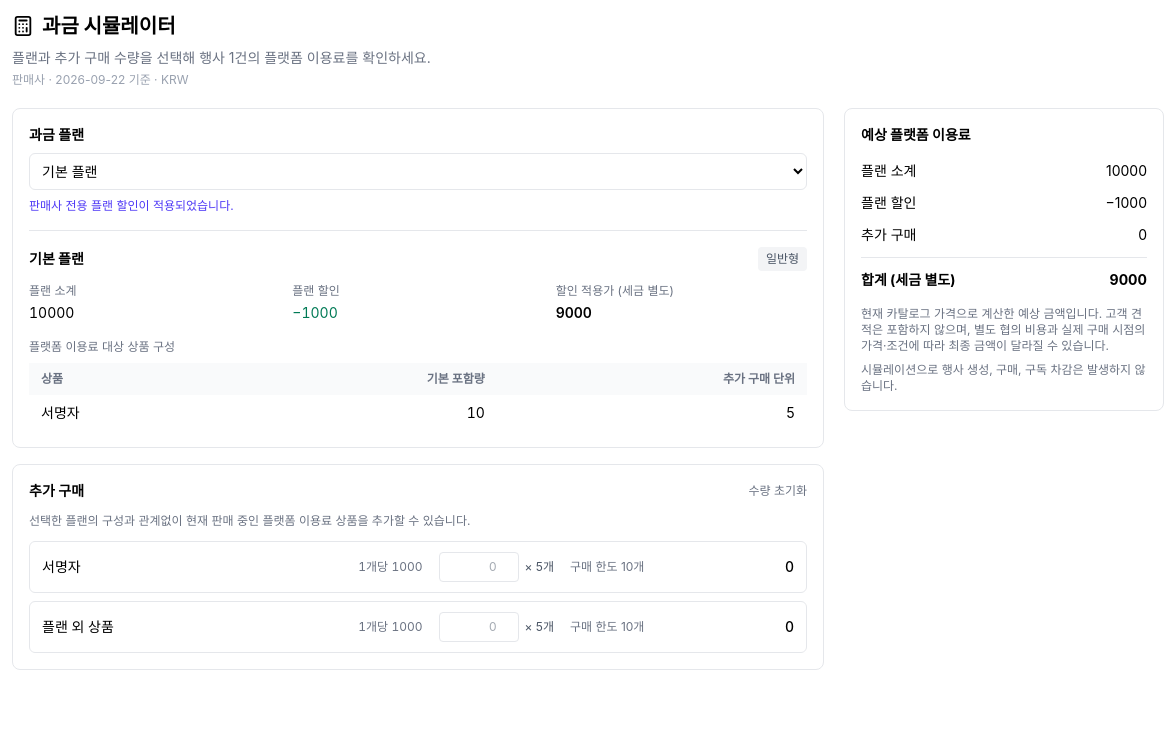
Test: 판매사 과금 시뮬레이터 › 판매 단위·한도를 적용하고 플랜 변경 시 추가 수량을 초기화한다
Expected: the text "판매사 전용 플랜 할인이 적용되었습니다." is shown, top-left (29, 198), bottom-right (234, 213)
Type "1" into the number field named "서명자 추가 구매 단위".
click(478, 567); type("1")  # box top-left (438, 552), bottom-right (518, 582)
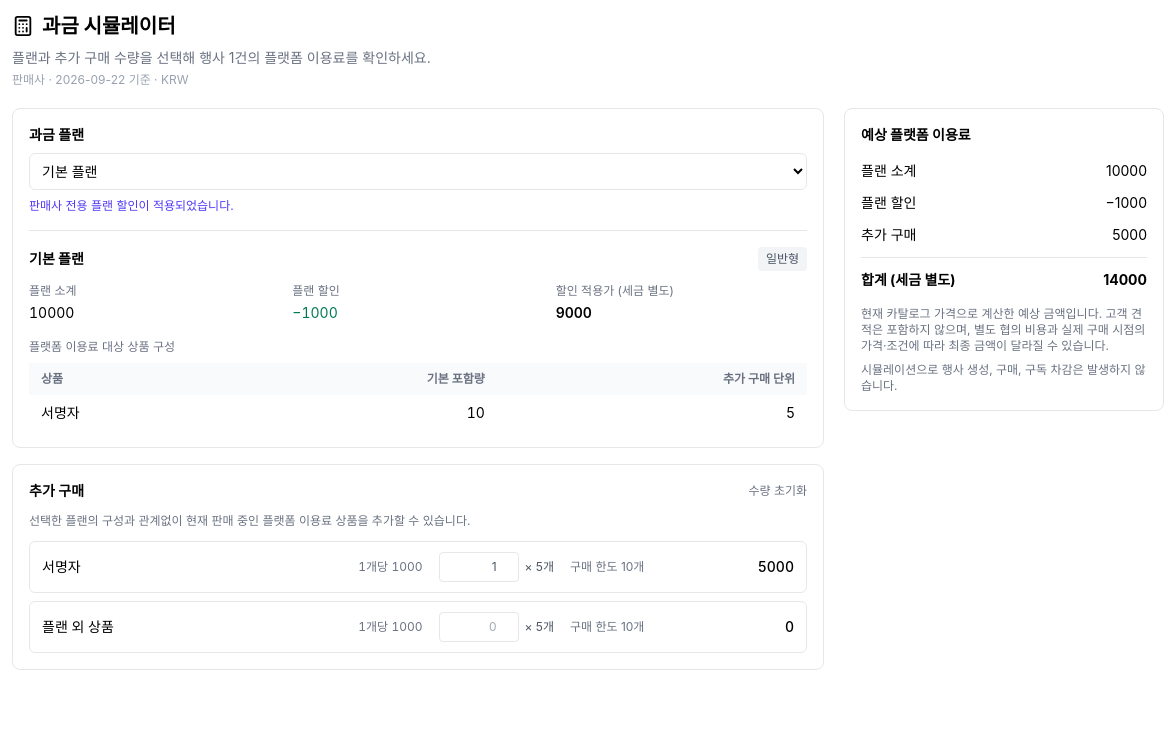
Expected: the heading "추가 구매" is shown, top-left (29, 481), bottom-right (84, 501)
Expected: the text "14000" is shown, top-left (1103, 270), bottom-right (1147, 290)
Replace the text in the number field named "서명자 추가 구매 단위" with "99" at (478, 567), box top-left (438, 552), bottom-right (518, 582)
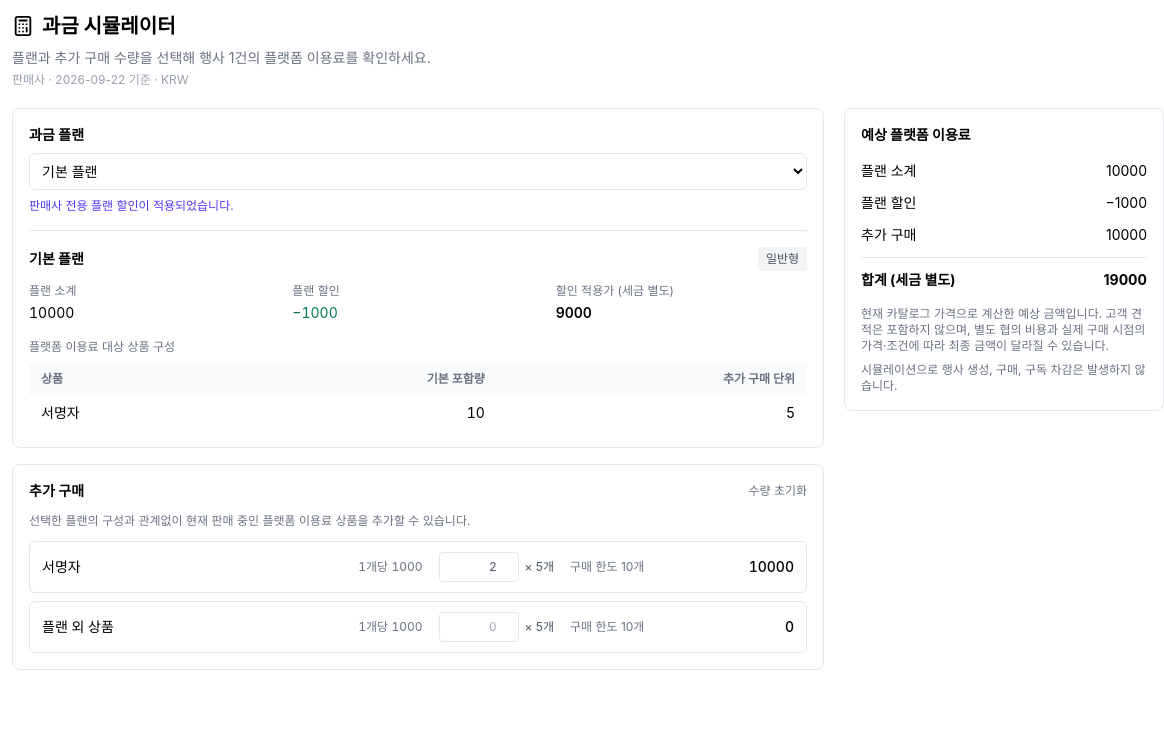
Expected: the number field named "서명자 추가 구매 단위" holds "2", top-left (438, 552), bottom-right (518, 582)
Expected: the text "19000" is shown, top-left (1104, 270), bottom-right (1147, 290)
Select "다른 플랜" in the dropdown labelled "과금 플랜" at (418, 172), box top-left (29, 153), bottom-right (807, 190)
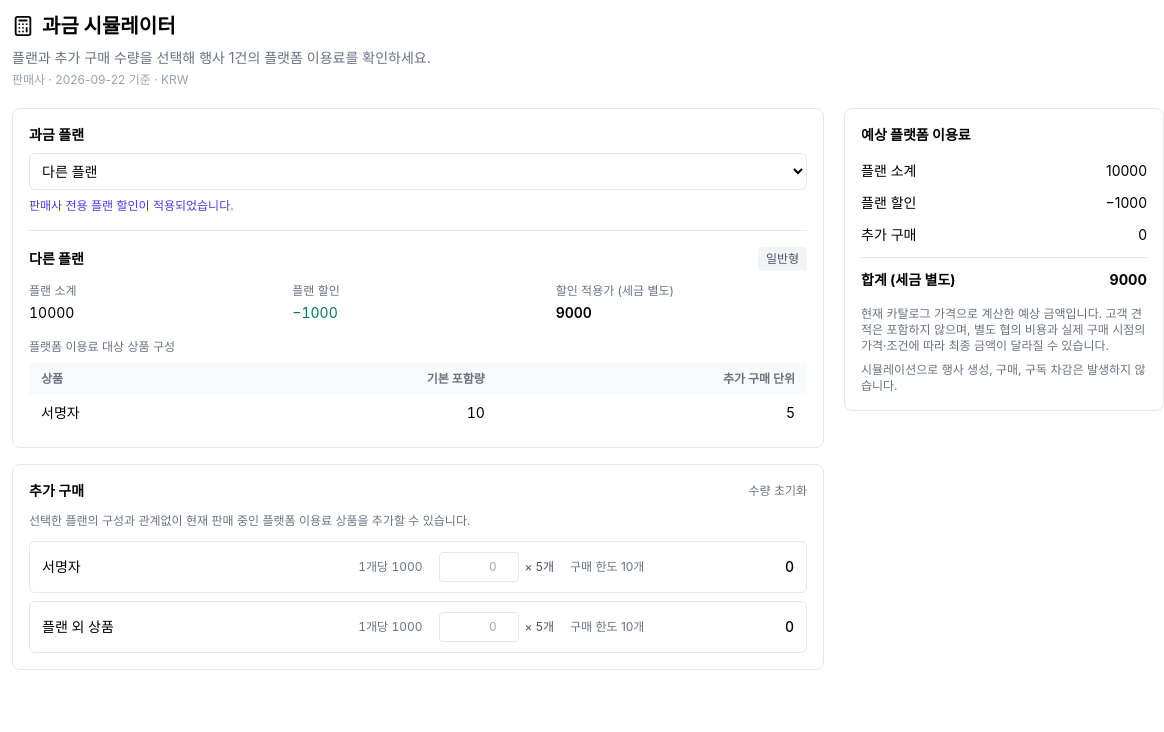
Expected: the text "9000" next to "합계 (세금 별도)" is shown, top-left (1110, 271), bottom-right (1147, 288)
Expected: the number field named "서명자 추가 구매 단위" is not empty, top-left (438, 552), bottom-right (518, 582)
